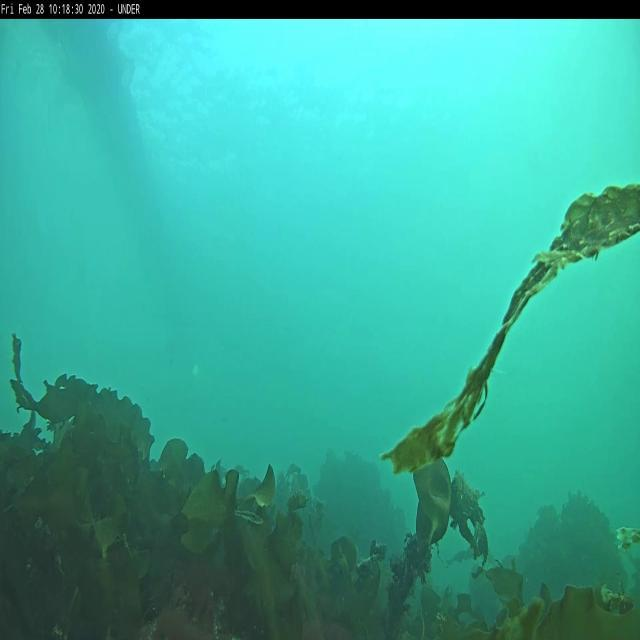fish: (234, 506, 264, 526)
